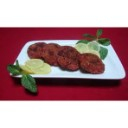cutlet: (56, 45, 82, 70), (79, 54, 106, 74), (42, 42, 60, 65), (28, 42, 47, 59)
